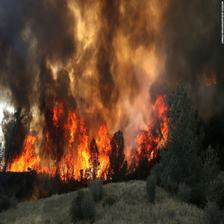fire: (7, 91, 183, 185)
